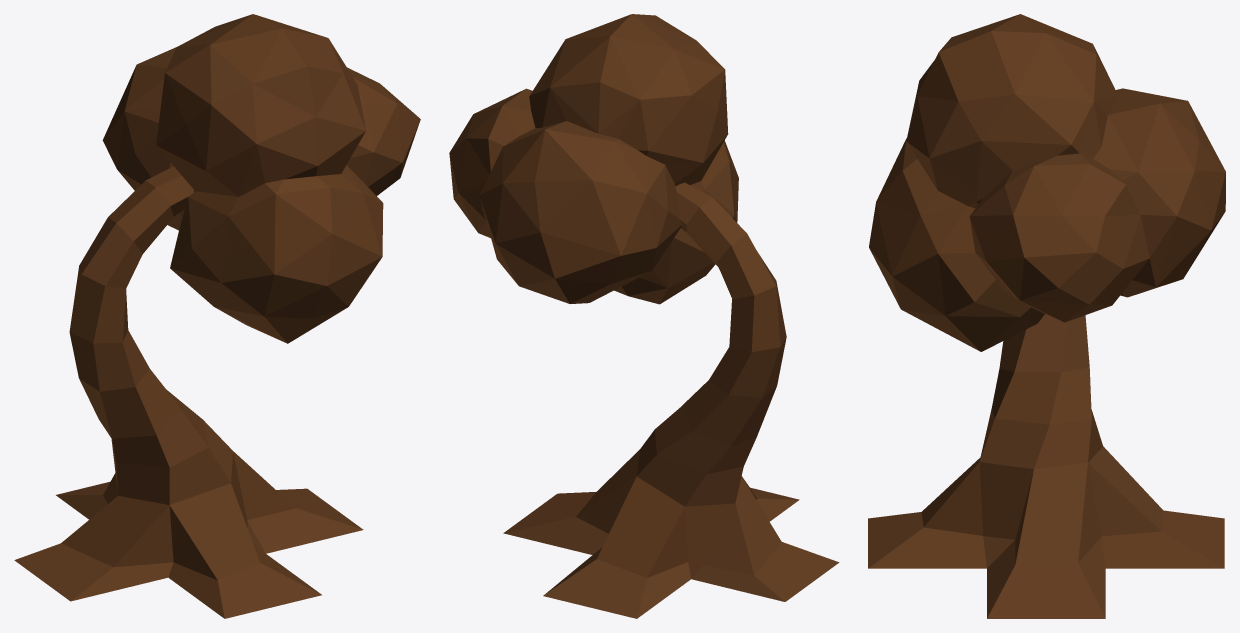
Rendered from ArbrePrairie_D.FBX.
3 renders of one model, left to right at view 1: azimuth 30°, elevation 25°; view 2: azimuth 150°, elevation 25°; view 3: azimuth 270°, elevation 25°, orthographic. The views are drawn at different scales.
Visible parts, largest first — view 1: ArbrePrairie_D; view 2: ArbrePrairie_D; view 3: ArbrePrairie_D.
Part boxes in pixels (box(x1,y1,x2,y2)): ArbrePrairie_D: box(14, 14, 420, 618); ArbrePrairie_D: box(449, 14, 839, 618); ArbrePrairie_D: box(868, 14, 1225, 618).
Size of the model in its own units: 3.77 by 5.08 by 3.01.
